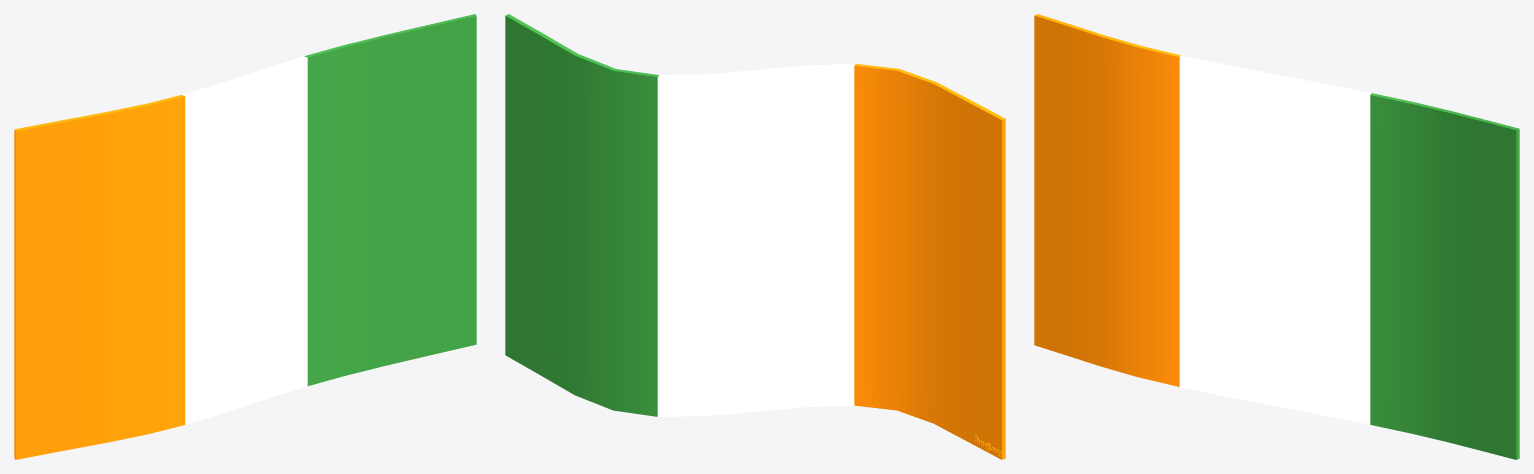
Rendered from flag_cote_divoire.glb.
The picture shows the model from 3 angles, left to right: view 1: azimuth 30°, elevation 25°; view 2: azimuth 150°, elevation 25°; view 3: azimuth 330°, elevation 25°; orthographic projection. The views are drawn at different scales.
Visible parts, largest first — view 1: Plane.415; view 2: Plane.415; view 3: Plane.415.
Boxes of the visible parts, x1=… form: Plane.415: x1=14, y1=14, x2=476, y2=459; Plane.415: x1=505, y1=14, x2=1005, y2=459; Plane.415: x1=1034, y1=14, x2=1519, y2=459.
Bounding box in the file's own units: 2.18 × 1.58 × 0.3373.
1 material, 1 textured.
